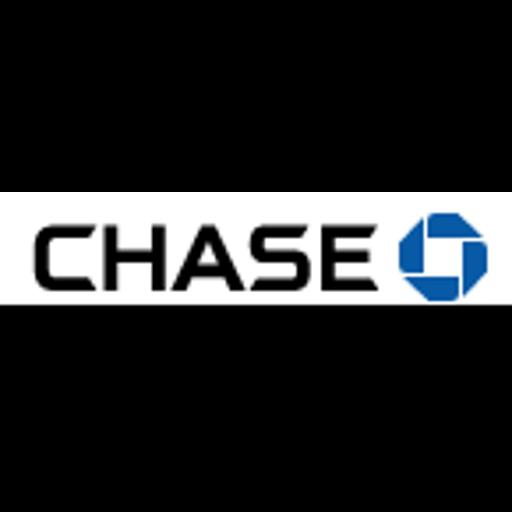Chase Personal Banking: (0, 192, 512, 319)
